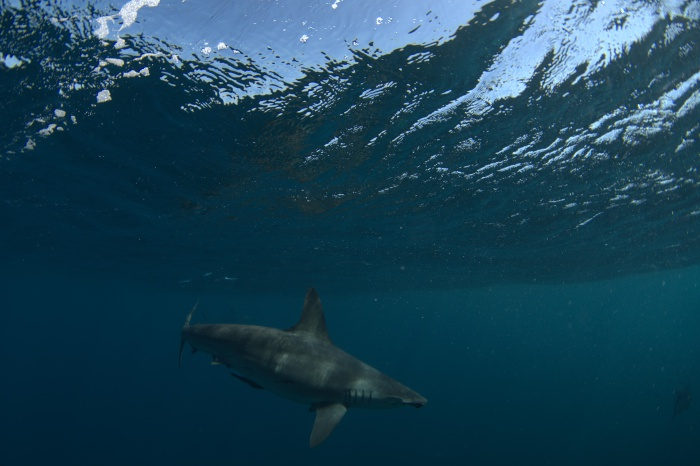Hammer: (168, 277, 437, 466)
